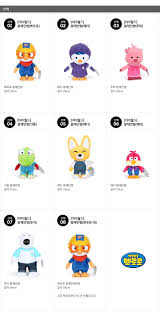Harry: (121, 149, 152, 180)
Loopy: (117, 42, 153, 82)
Petty: (62, 42, 100, 84)
Pororo: (11, 41, 42, 84)
